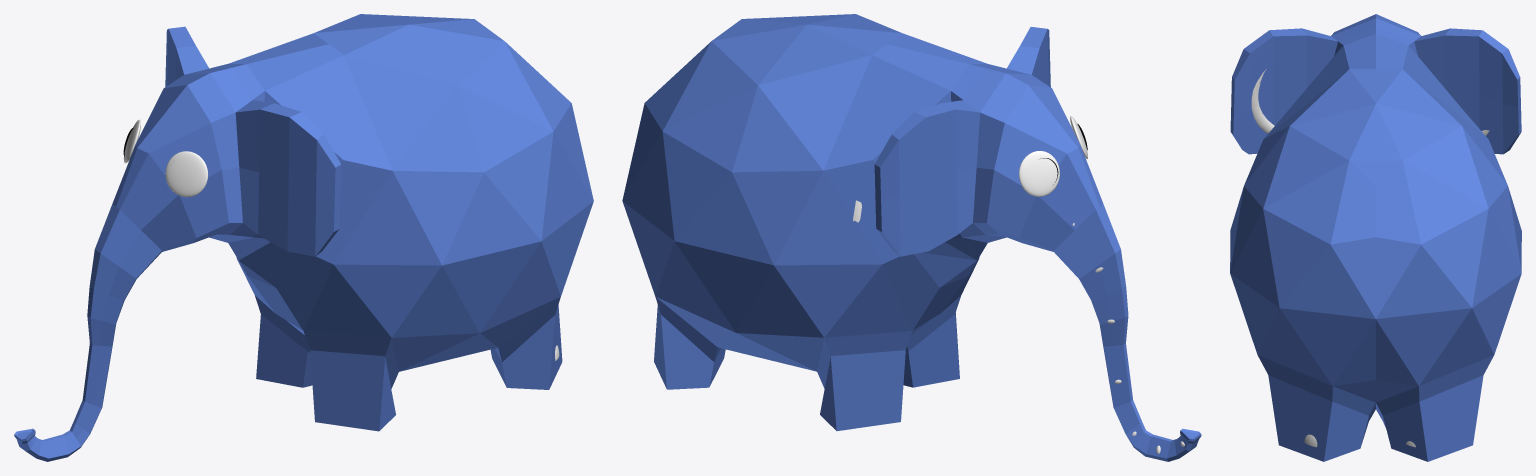
The model's file is elephant and bone.fbx.
3 renders of one model, left to right at view 1: azimuth 30°, elevation 25°; view 2: azimuth 150°, elevation 25°; view 3: azimuth 270°, elevation 25°, orthographic. The views are drawn at different scales.
Parts seen in each view (by area): view 1: elephant; view 2: elephant; view 3: elephant, bone.
Boxes of the visible parts, x1,y1,x2,y2 form: elephant: [14, 14, 593, 461]; elephant: [622, 14, 1201, 461]; elephant: [1230, 14, 1521, 461]; bone: [1251, 69, 1489, 447].
Size of the model in its own units: 307 by 186 by 161.
